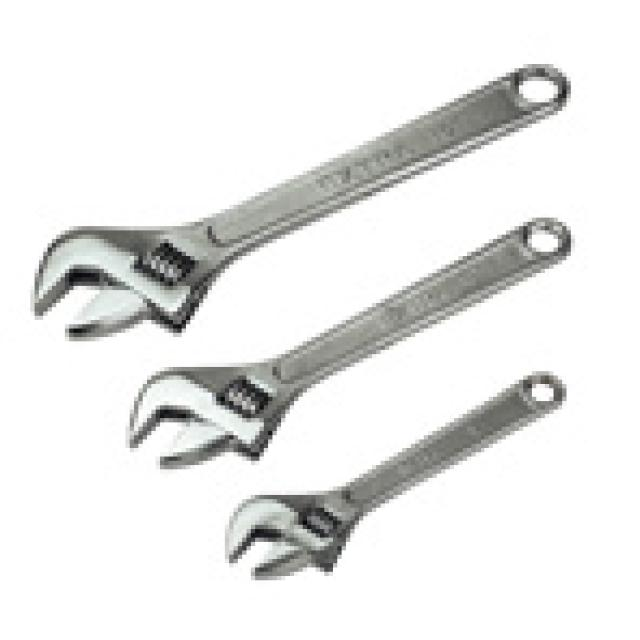wrench: (0, 13, 640, 333), (179, 464, 640, 604)
